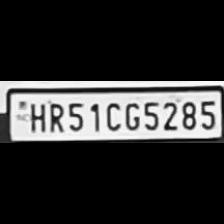1: (86, 100, 102, 132)
2: (160, 99, 178, 131)
5: (64, 98, 86, 132), (140, 97, 160, 130), (198, 96, 216, 130)
8: (178, 98, 196, 130)
C: (102, 99, 120, 131)
G: (122, 99, 140, 131)
H: (25, 100, 45, 132)
R: (44, 99, 64, 133)
